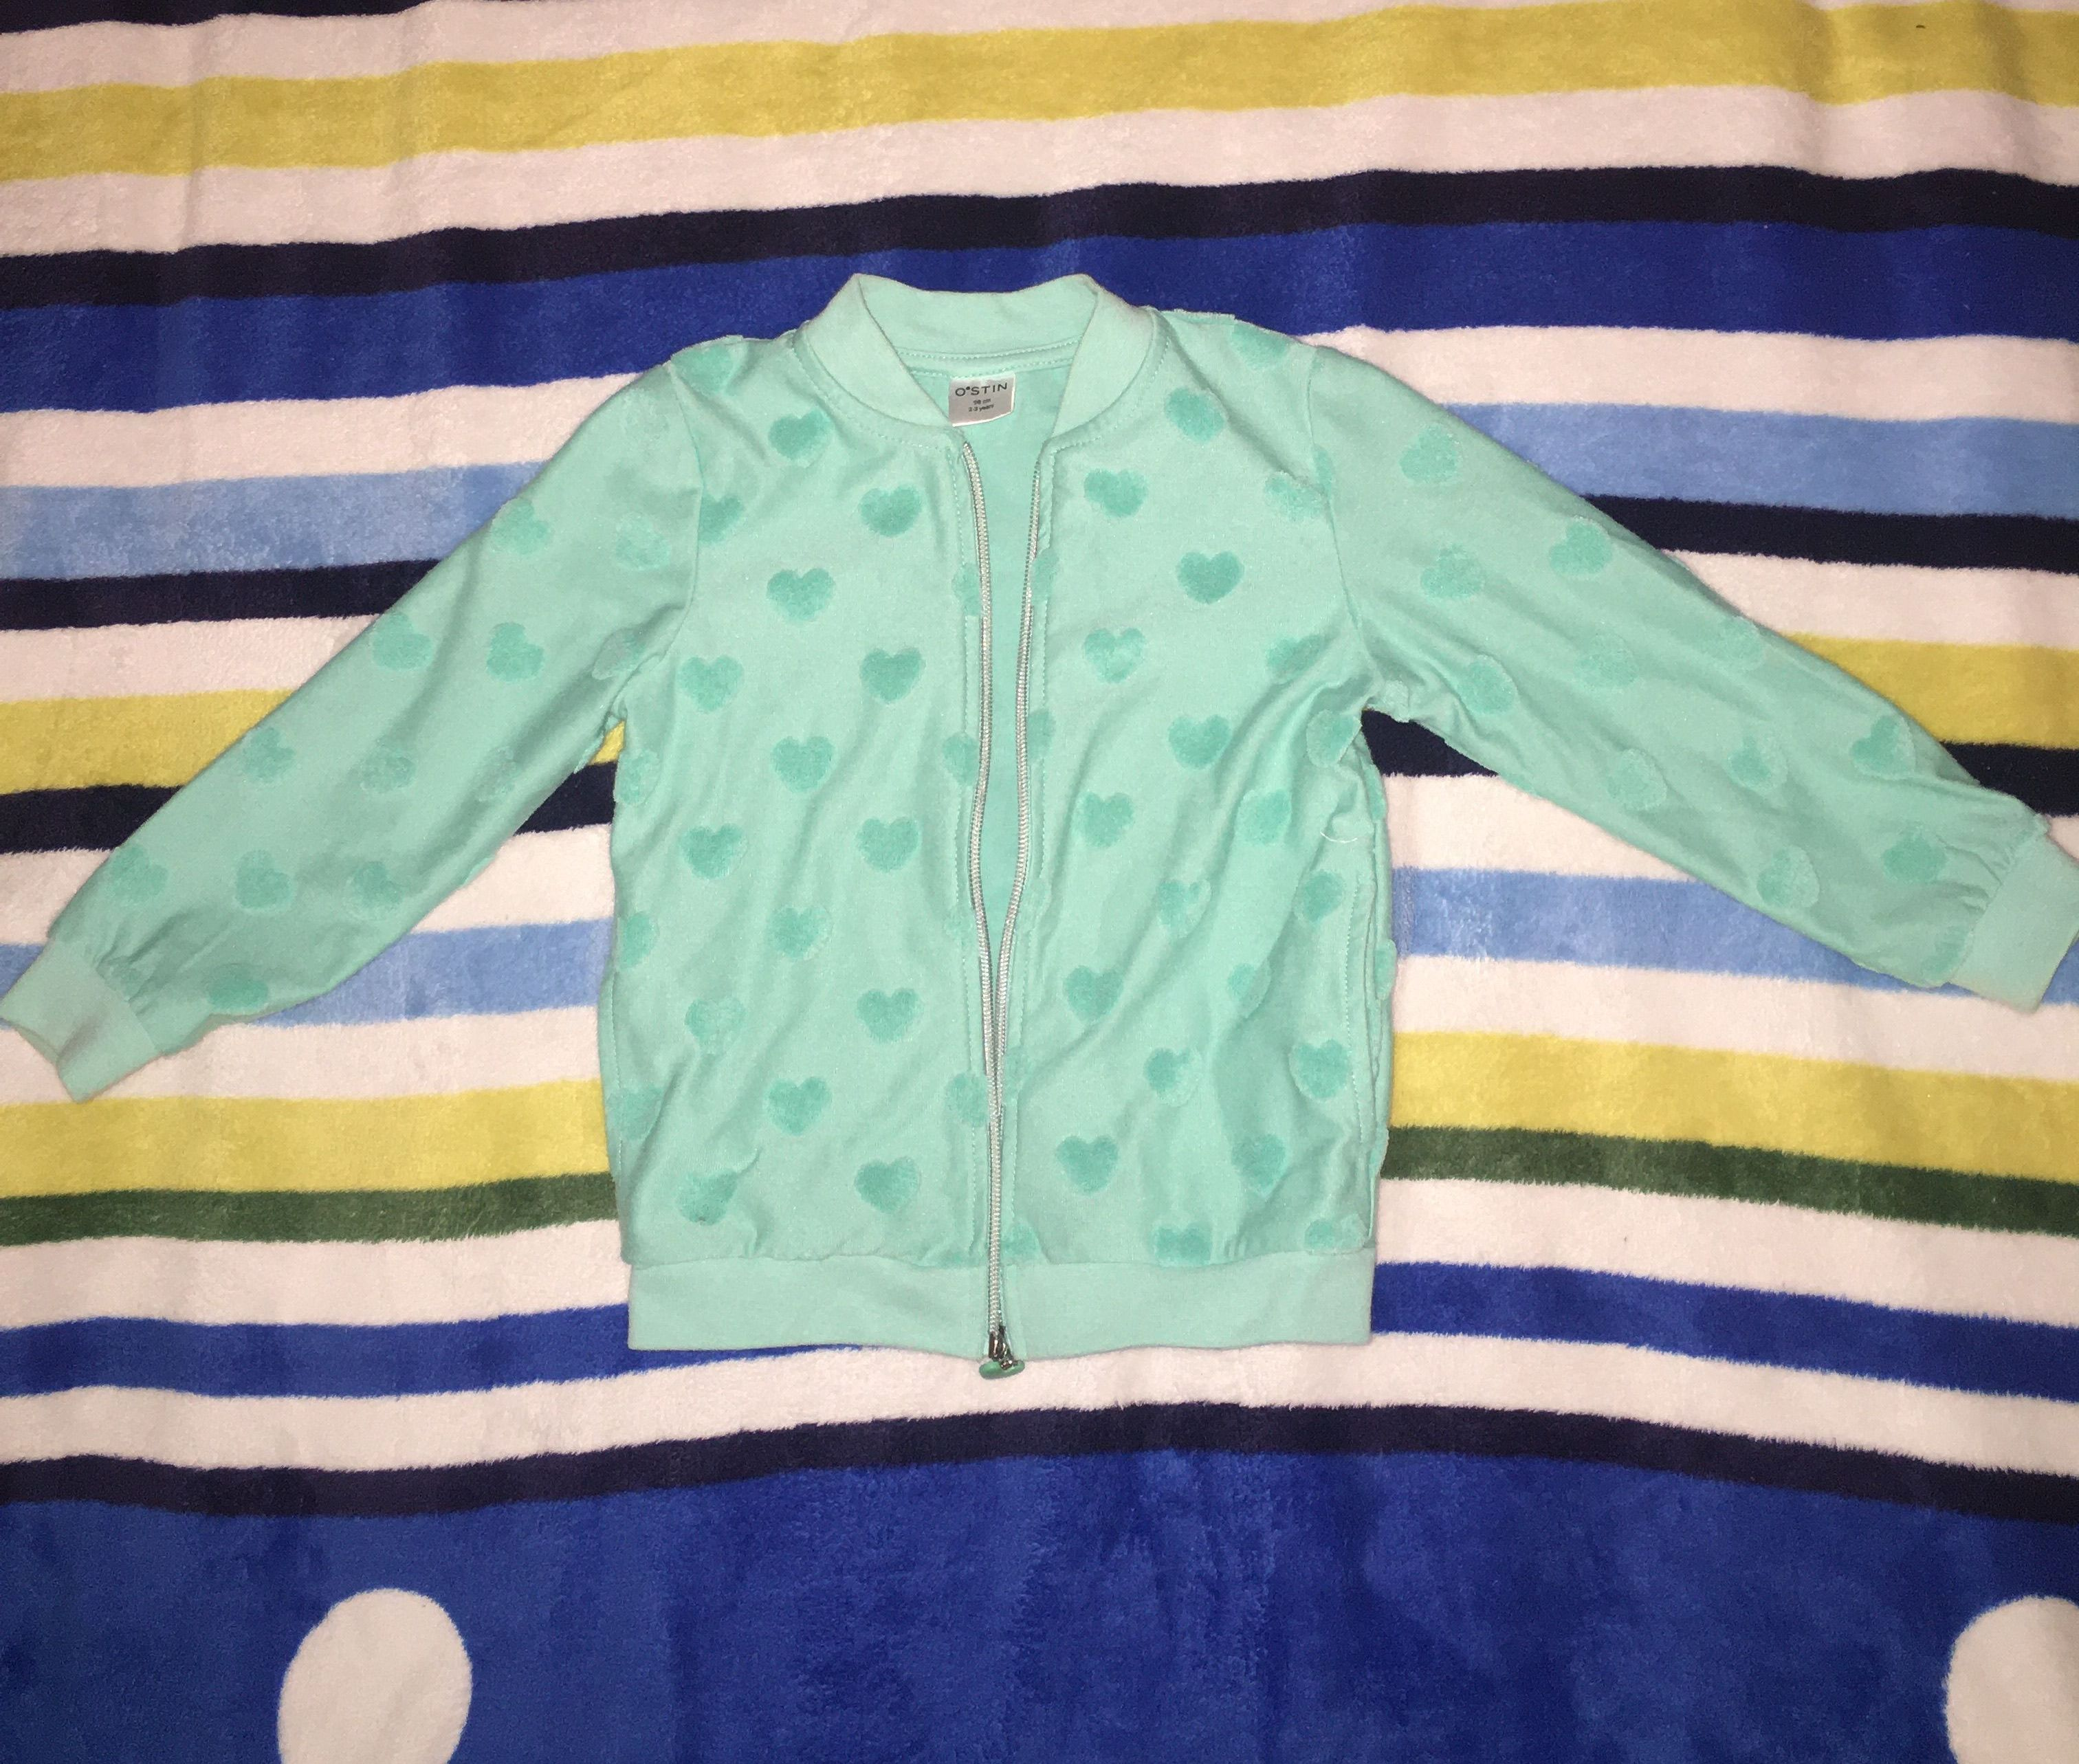clothes: (9, 234, 2074, 1367)
